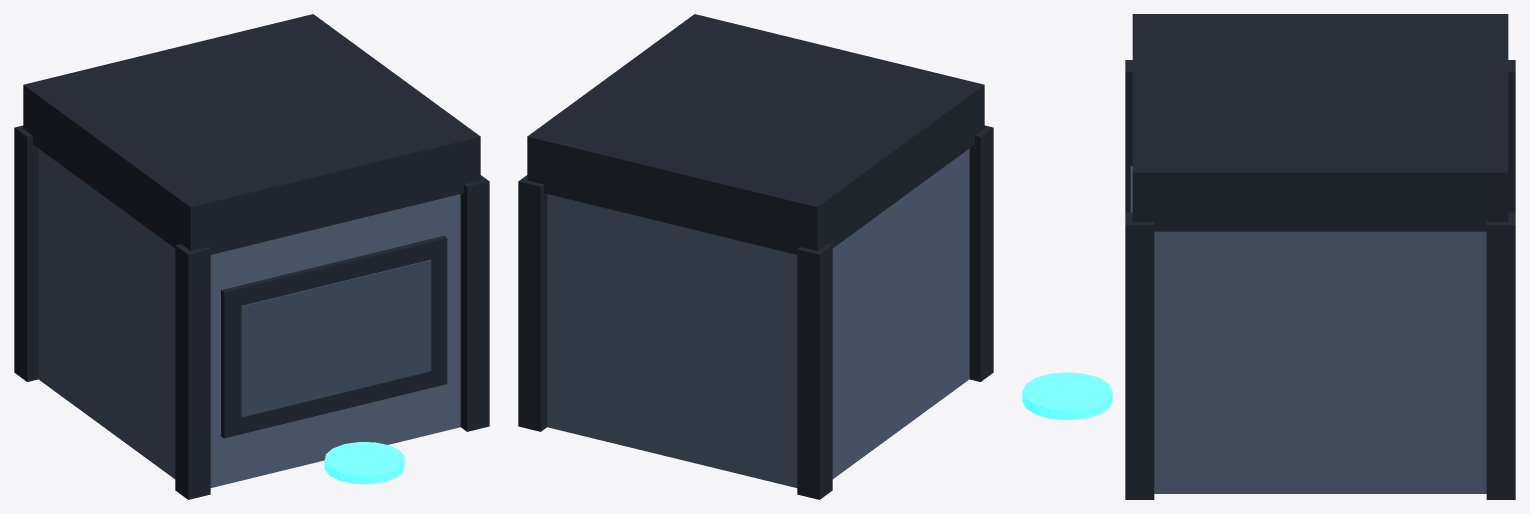
Rendered from mod_cofre.fbx.
3 renders of one model, left to right at view 1: azimuth 30°, elevation 25°; view 2: azimuth 150°, elevation 25°; view 3: azimuth 270°, elevation 25°, orthographic. The views are drawn at different scales.
Visible parts, largest first — view 1: Cofre, Cofre_Marca; view 2: Cofre; view 3: Cofre, Cofre_Marca.
Boxes of the visible parts, x1=… form: Cofre: x1=14, y1=14, x2=489, y2=499; Cofre_Marca: x1=324, y1=442, x2=404, y2=484; Cofre: x1=518, y1=14, x2=993, y2=499; Cofre: x1=1125, y1=14, x2=1515, y2=499; Cofre_Marca: x1=1022, y1=372, x2=1112, y2=420.
Size of the model in its own units: 0.6048 by 0.5656 by 0.7644.
